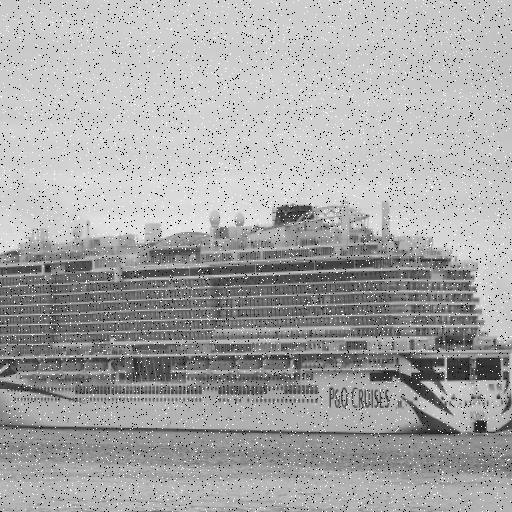cruises: (1, 194, 512, 445)
